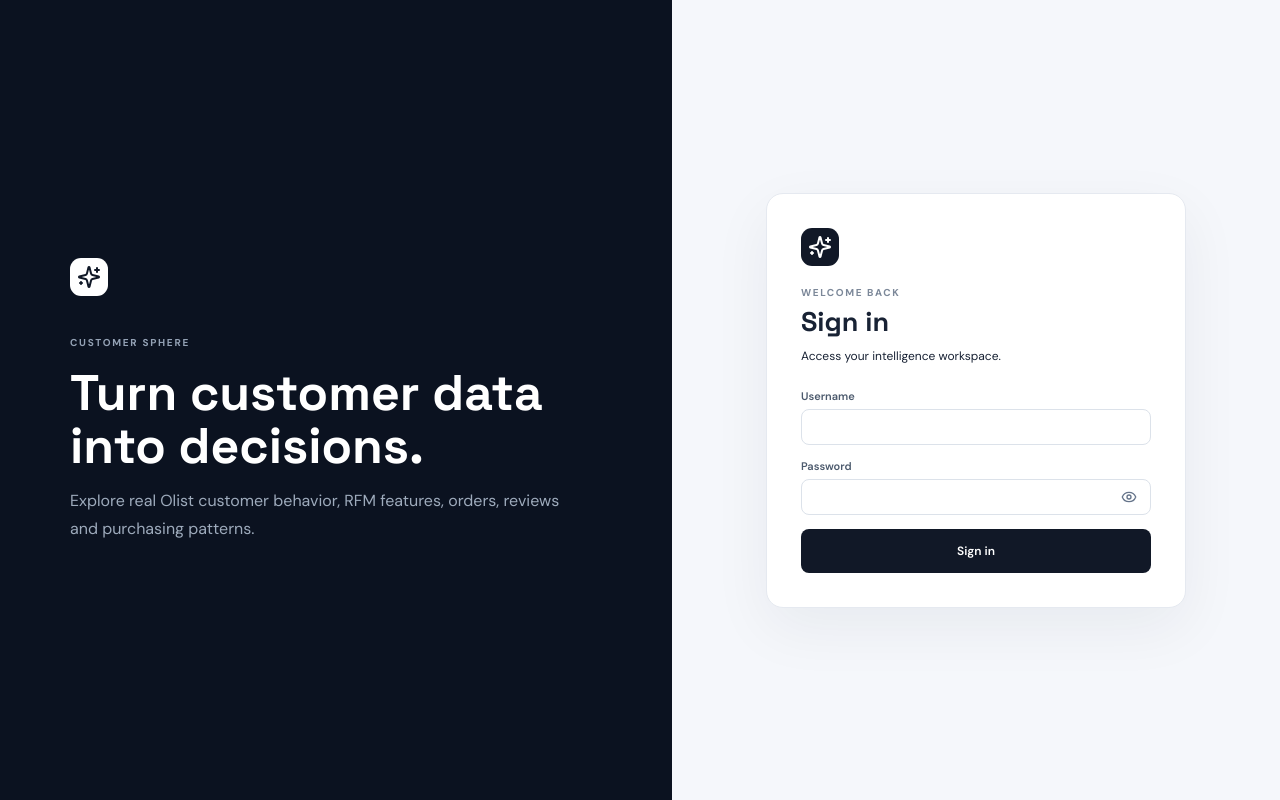
it: Login Page Component › toggles password visibility
Step 1. Click the button named "Show password" → (1129,496), box x1=1115 y1=482 x2=1143 y2=510
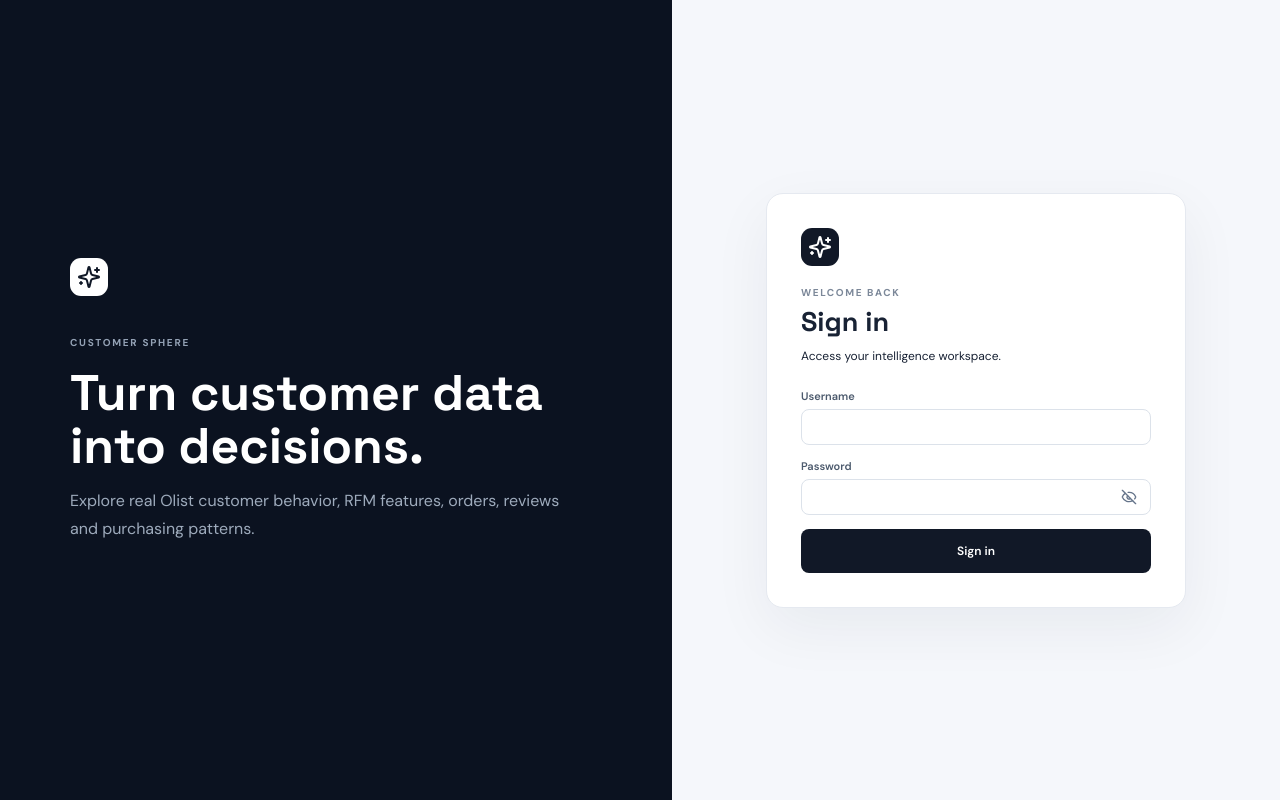
Expected: the button named "Hide password" is shown, x1=1115 y1=482 x2=1143 y2=510
